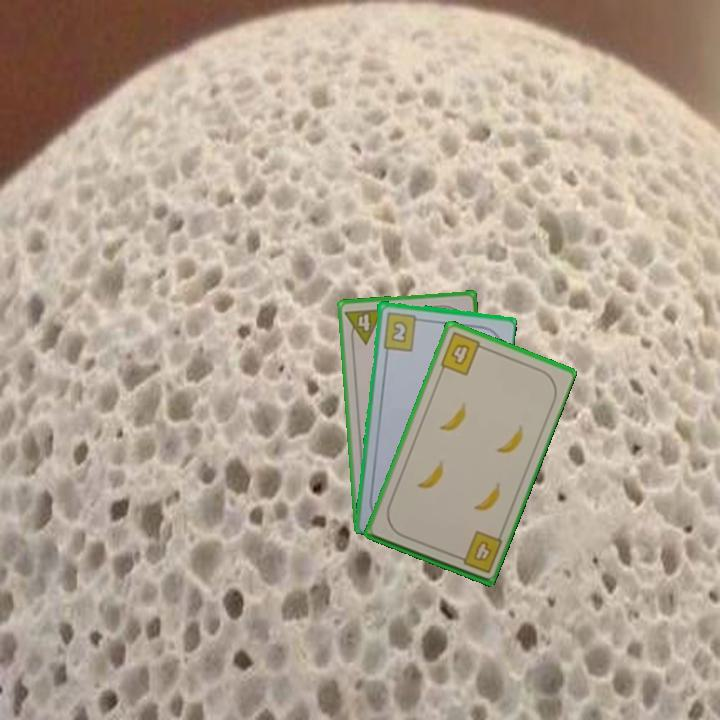2b: (379, 309, 425, 353)
4b: (451, 527, 505, 576), (436, 328, 488, 378)
4p: (342, 305, 386, 348)
